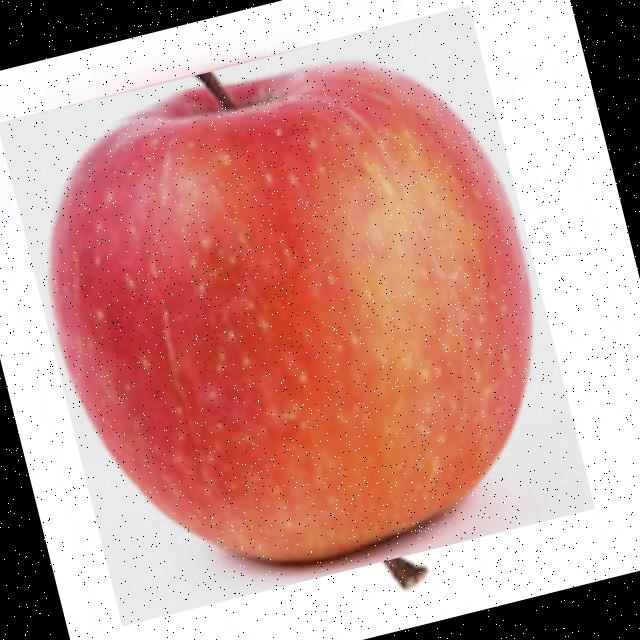Fresh Apple: (0, 2, 596, 626)
